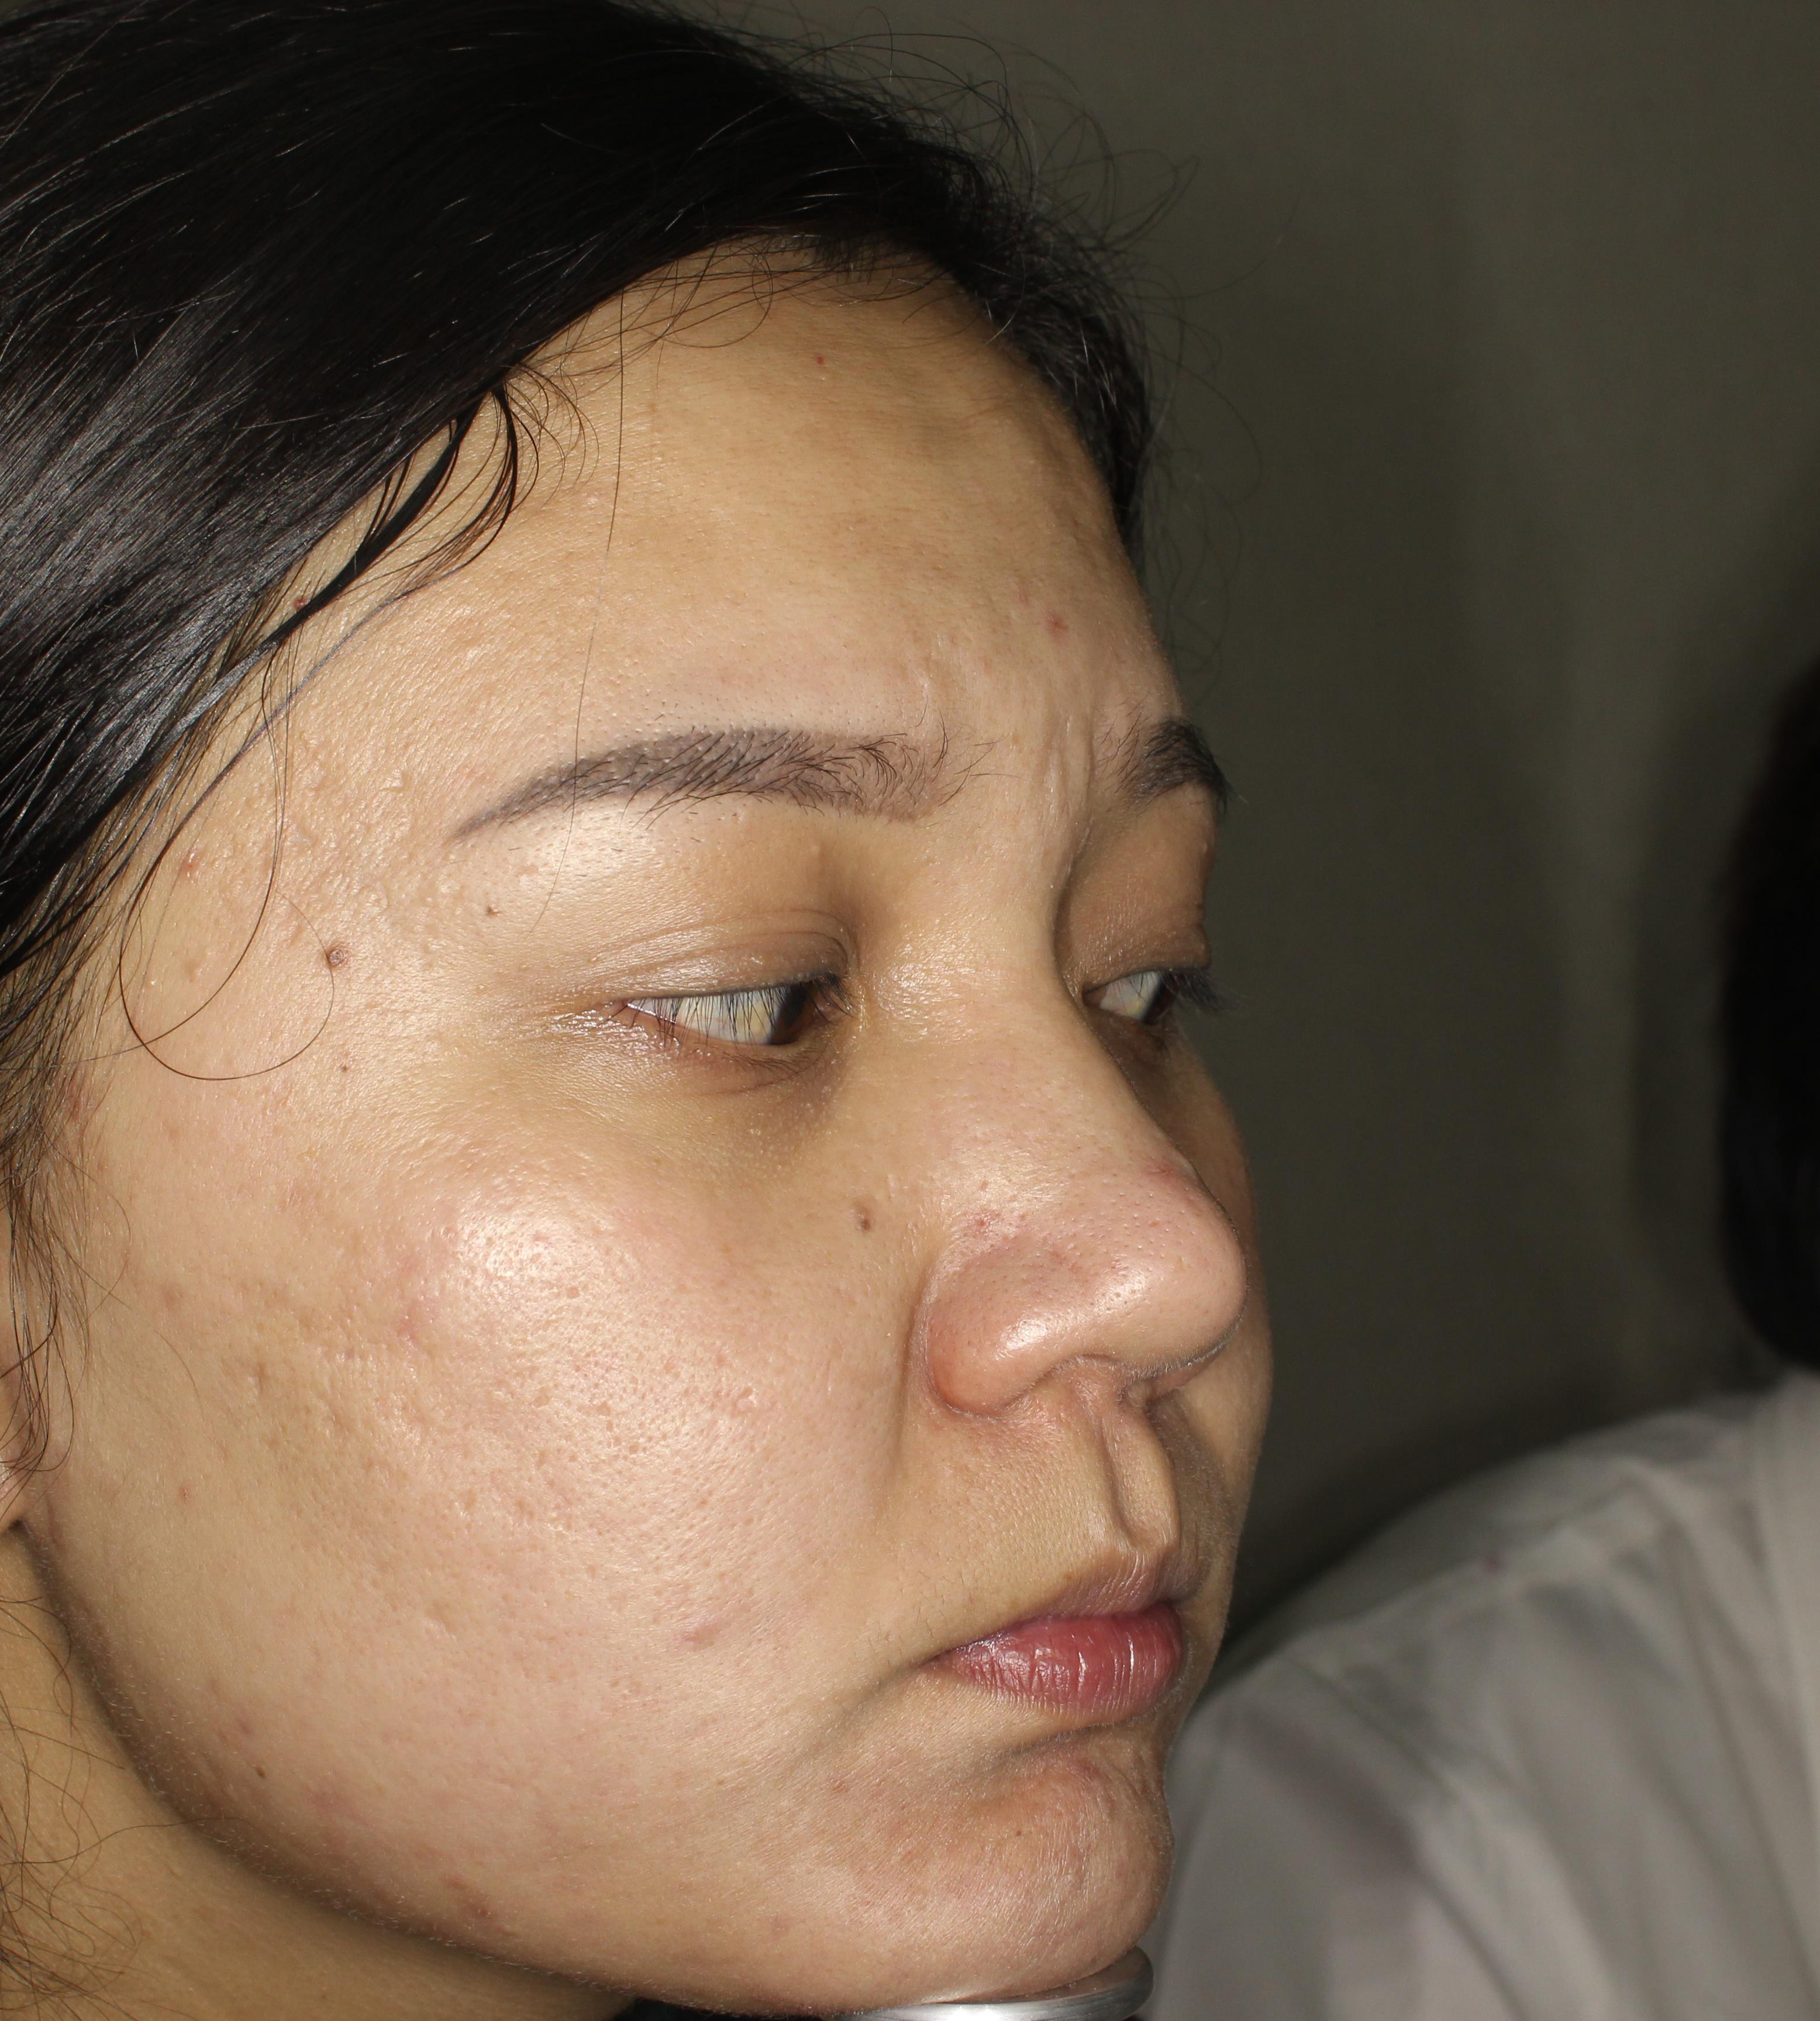fore: (1123, 1127, 1202, 1213), (669, 1603, 740, 1670)
